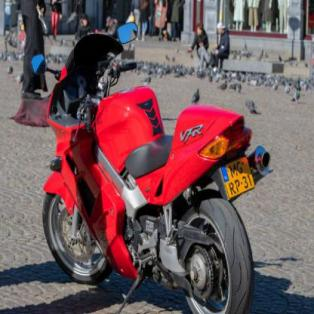Motocicleta: (30, 18, 276, 314)
